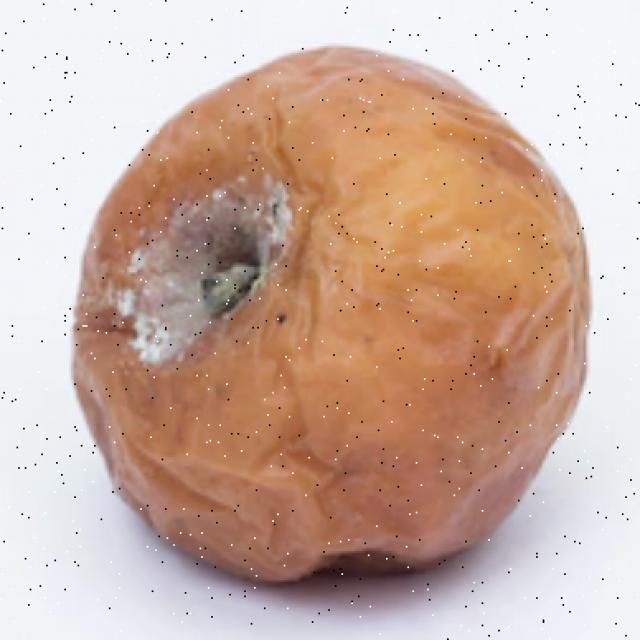Rotten: (90, 77, 578, 580)
